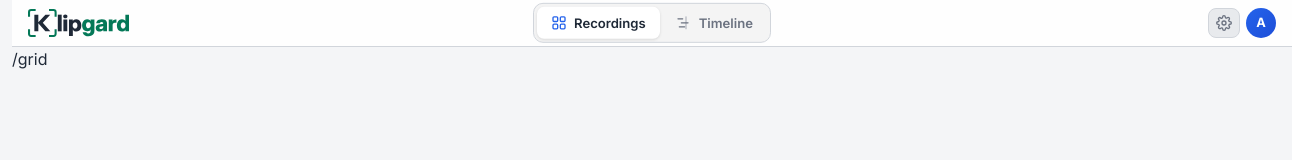
Header account menu [WEB-050] › [WEB-041] the account button announces a menu and the menu has menu items
Step 1. Click the button with test id "account-menu-button" → (1261, 23), box [1246, 8, 1276, 38]
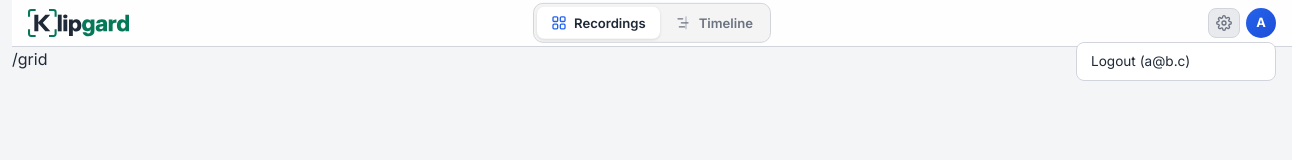
Check: the menu is shown, box [1076, 42, 1276, 81]
Check: the menu item "Logout (a@b.c)" is shown, box [1077, 43, 1275, 80]
